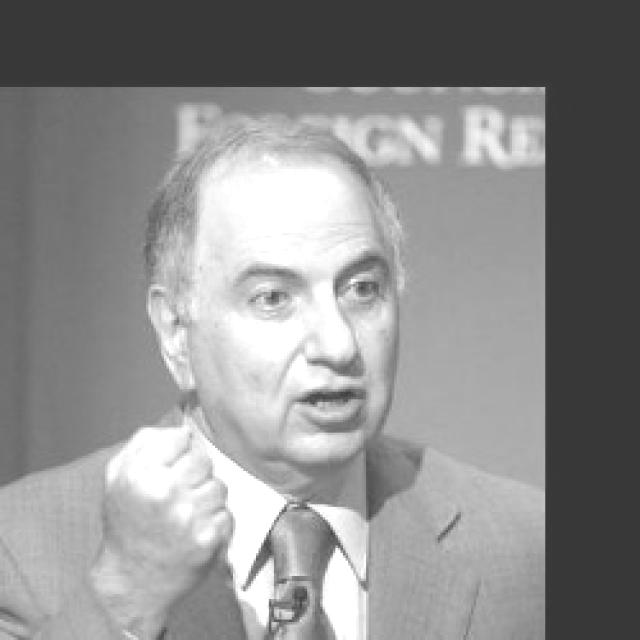real: (160, 146, 414, 462), (225, 269, 392, 322)
